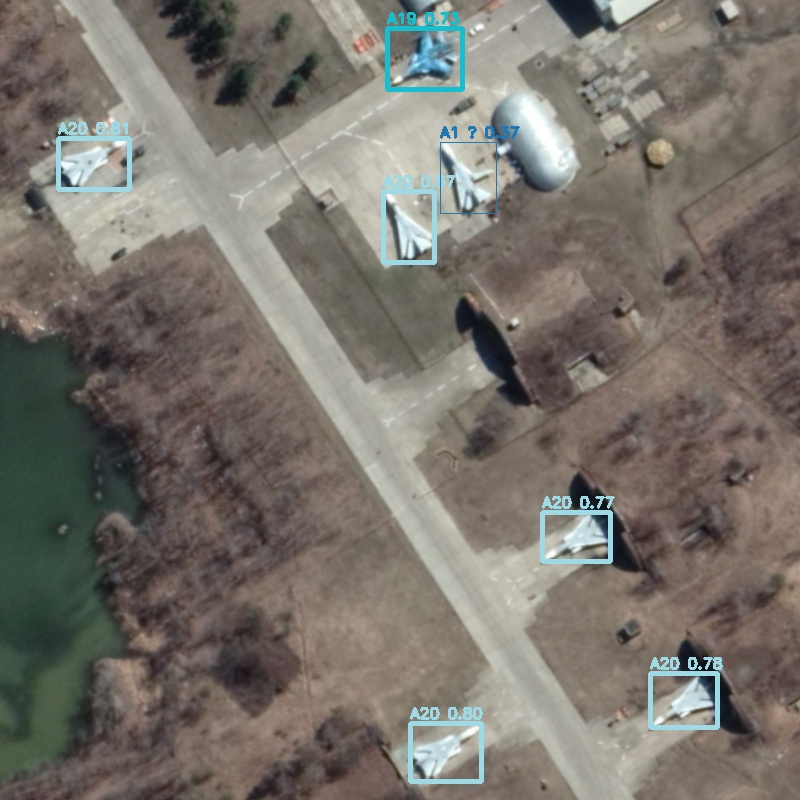A1: (440, 142, 496, 213)
A19: (387, 28, 462, 89)
A20: (410, 723, 481, 781), (58, 138, 129, 189), (383, 191, 434, 262), (650, 673, 717, 727), (542, 512, 610, 561)
